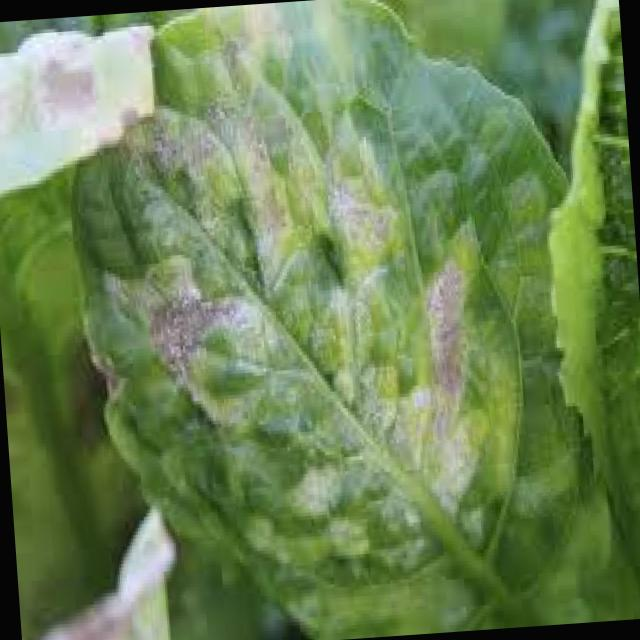Powdery_mildew_on_lettuce: (146, 112, 484, 552)
